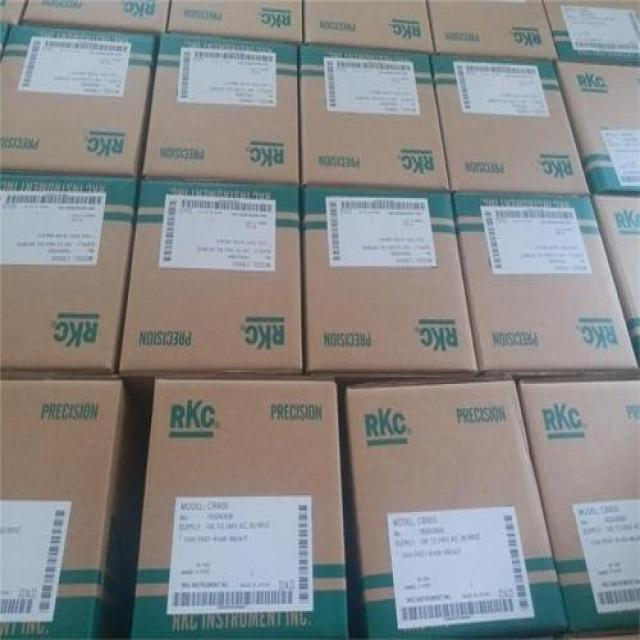Carton: (434, 53, 635, 364), (118, 36, 303, 365), (128, 379, 346, 638), (349, 382, 567, 630), (0, 382, 122, 638), (303, 191, 474, 367), (525, 379, 639, 625), (1, 179, 132, 369), (0, 26, 156, 167), (301, 46, 451, 186), (557, 65, 637, 189)
